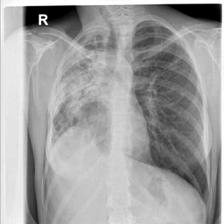tuberculosis: (40, 16, 214, 208)
